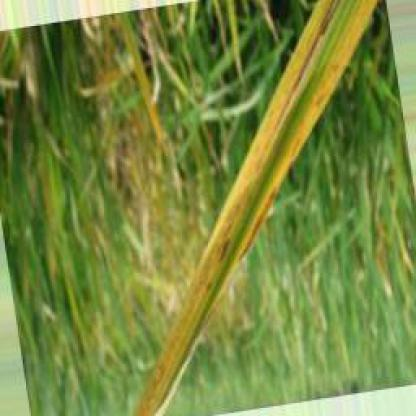Tungro: (136, 6, 375, 416)
